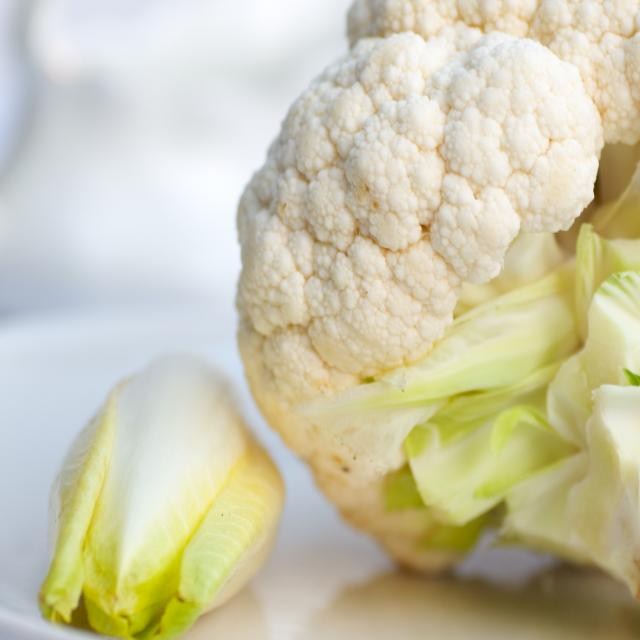cauliflower: (216, 0, 640, 568)
